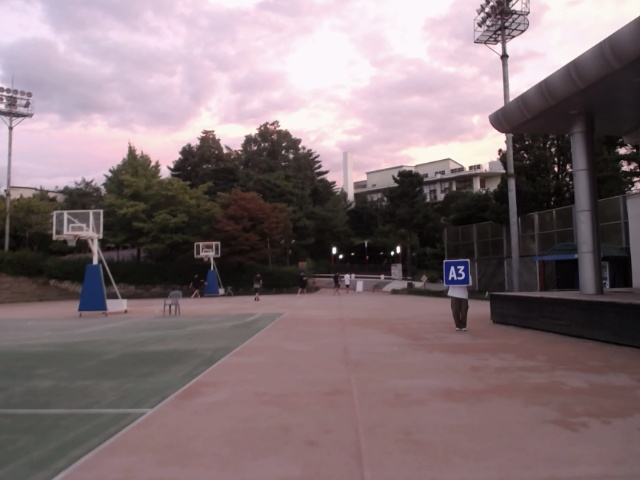delivery_a3: (442, 259, 470, 286)
